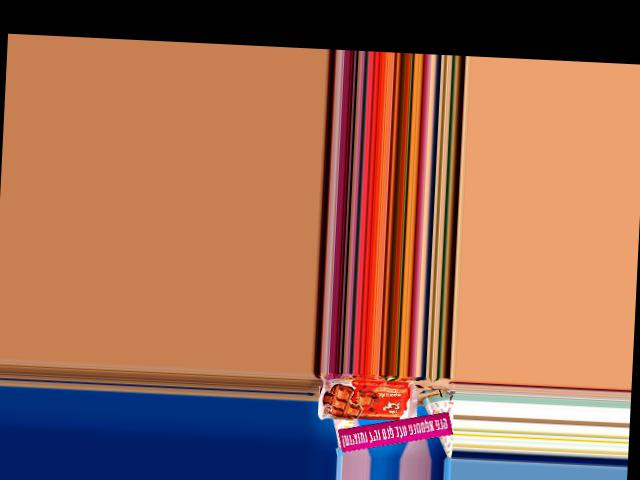chocolate: (315, 375, 420, 425)
